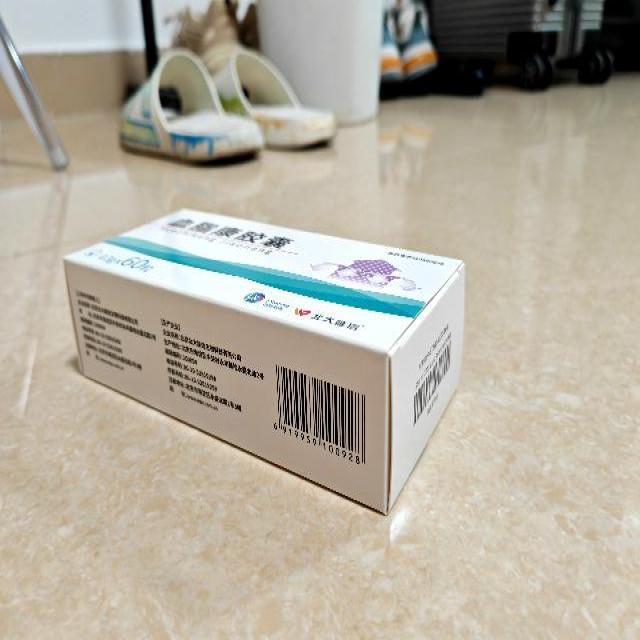box: (64, 208, 466, 516)
